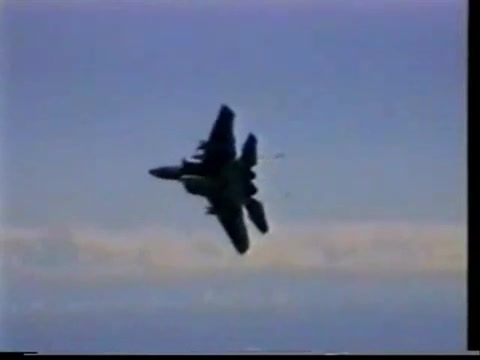aeroplane: (149, 104, 270, 255)
